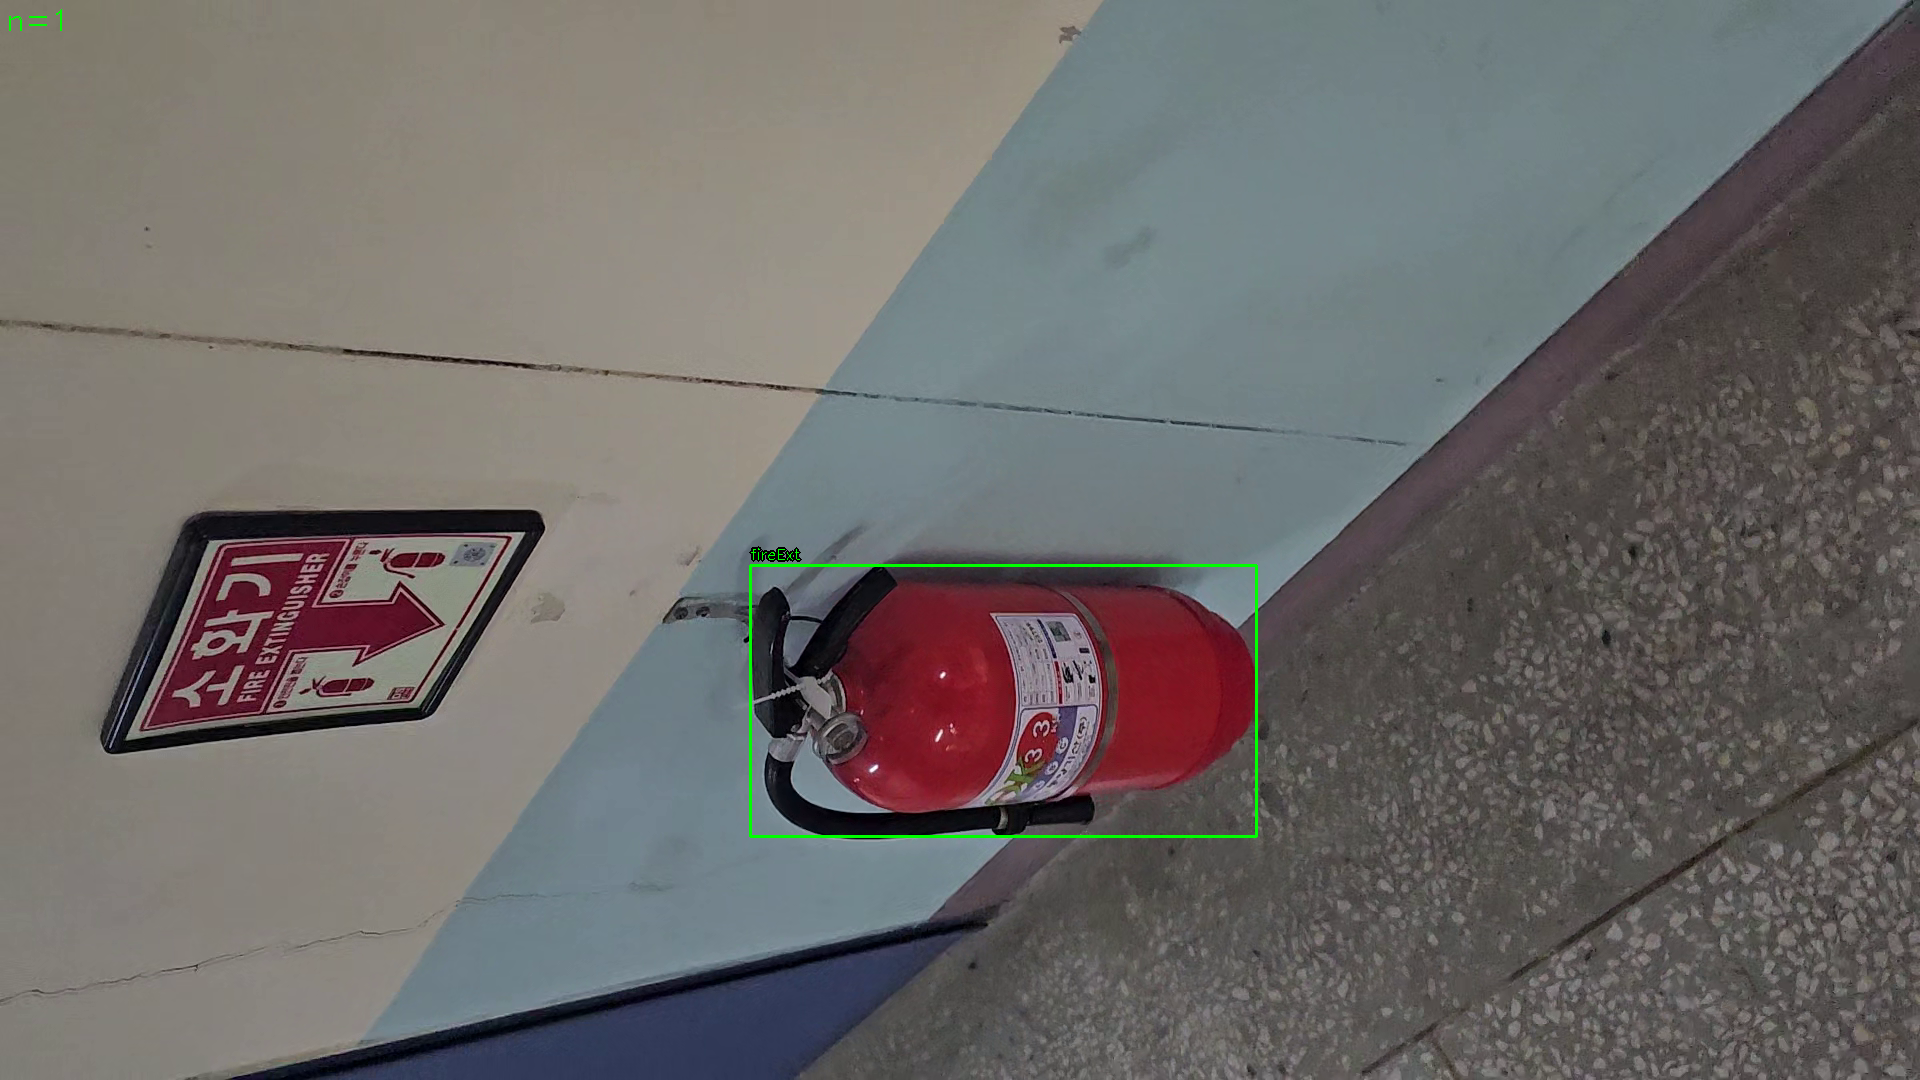lane: (750, 564, 1257, 837)
